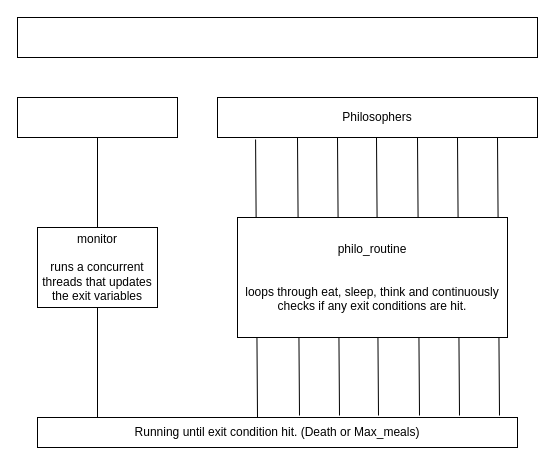
The diagram is 555 pixels wide and 465 high, and some of its shapes have lost their labels. The centre of each missing label's shape, as x and y in pixels:
Monitor: the point at 97,117
Threads: the point at 277,37
